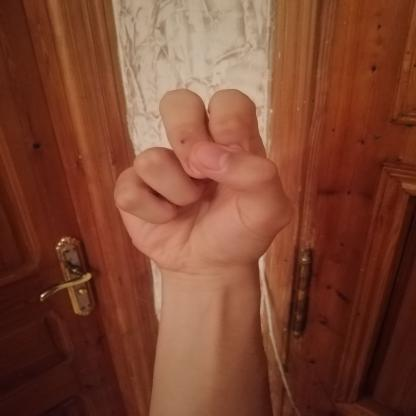QAAF: (95, 74, 312, 291)
